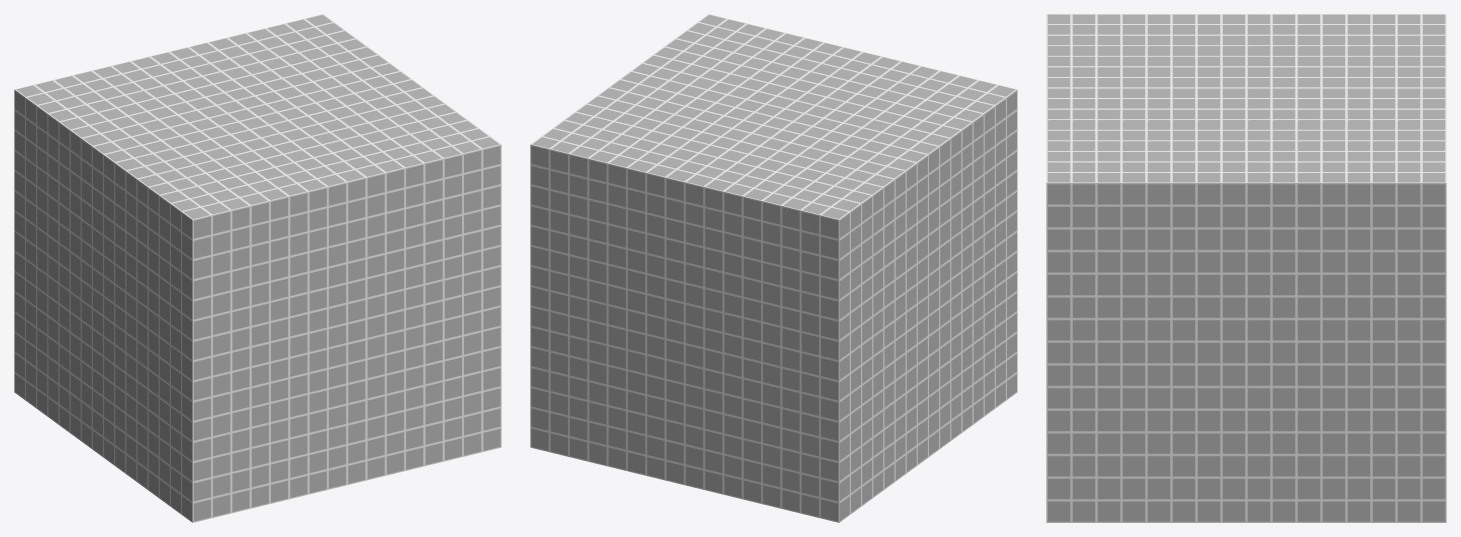
The model's file is map_1.glb.
3 renders of one model, left to right at view 1: azimuth 30°, elevation 25°; view 2: azimuth 150°, elevation 25°; view 3: azimuth 270°, elevation 25°, orthographic. The views are drawn at different scales.
Parts seen in each view (by area): view 1: Cube.900, Cube.153, Cube.540, Cube.221, Cube.480, Cube.840, Cube.600, Cube.780, Cube.085, Cube.300, Cube.017, Cube.420 (+18 smaller); view 2: Cube.944, Cube.203, Cube.584, Cube.284, Cube.524, Cube.884, Cube.644, Cube.824, Cube.135, Cube.344, Cube.067, Cube.464 (+18 smaller); view 3: Cube.929, Cube.915, Cube.917, Cube.919, Cube.921, Cube.923, Cube.925, Cube.927, Cube.931, Cube.933, Cube.935, Cube.937 (+228 smaller).
Part boxes in pixels (x1,y1,x2,y2): Cube.900: (181, 207, 211, 239); Cube.153: (181, 454, 211, 482); Cube.540: (181, 333, 211, 361); Cube.221: (181, 434, 211, 462); Cube.480: (181, 353, 211, 381); Cube.840: (181, 232, 211, 260); Cube.600: (181, 313, 211, 340); Cube.780: (181, 252, 211, 280); Cube.085: (181, 475, 211, 502); Cube.300: (181, 414, 211, 441); Cube.017: (181, 495, 211, 522); Cube.420: (181, 374, 211, 401); Cube.944: (820, 207, 850, 239); Cube.203: (820, 454, 850, 482); Cube.584: (820, 333, 850, 361); Cube.284: (820, 434, 850, 462); Cube.524: (820, 353, 850, 381); Cube.884: (820, 232, 850, 260); Cube.644: (820, 313, 850, 340); Cube.824: (820, 252, 850, 280); Cube.135: (820, 475, 850, 502); Cube.344: (820, 414, 850, 441); Cube.067: (820, 495, 850, 522); Cube.464: (820, 374, 850, 401); Cube.929: (1221, 172, 1246, 205); Cube.915: (1046, 172, 1071, 205); Cube.917: (1071, 172, 1096, 205); Cube.919: (1096, 172, 1121, 205); Cube.921: (1121, 172, 1146, 205); Cube.923: (1146, 172, 1171, 205); Cube.925: (1171, 172, 1196, 205); Cube.927: (1196, 172, 1221, 205); Cube.931: (1246, 172, 1271, 205); Cube.933: (1271, 172, 1296, 205); Cube.935: (1296, 172, 1321, 205); Cube.937: (1321, 172, 1346, 205).
Bounding box in the file's own units: 31.98 × 29.98 × 31.98.
Materials: 1 (1 with a texture image).
